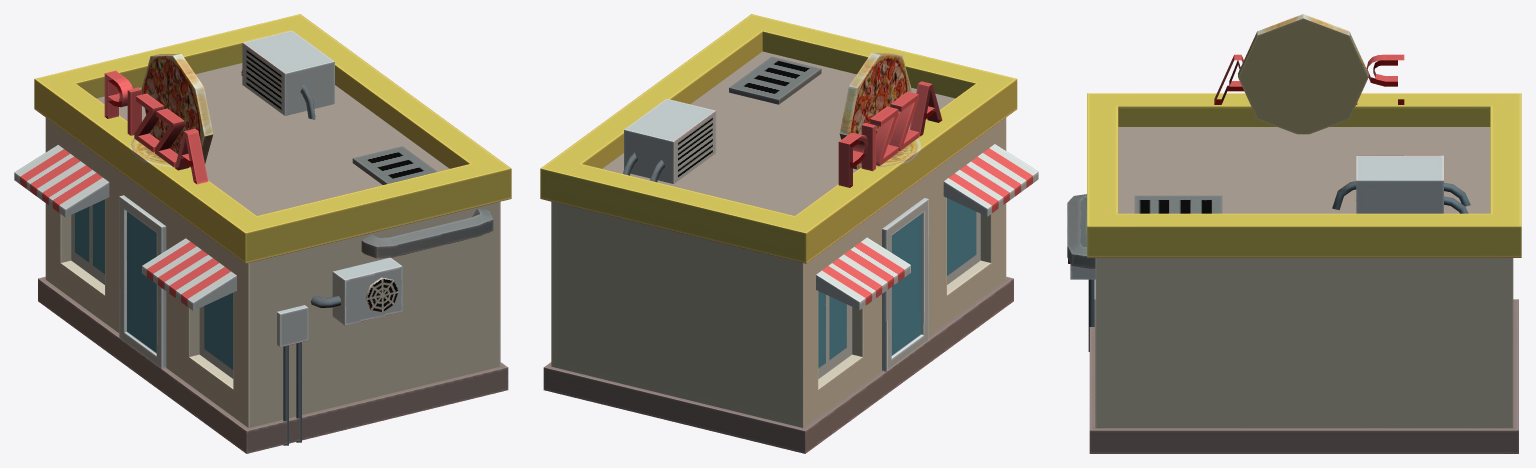
File: Pizza.glb
3 renders of one model, left to right at view 1: azimuth 30°, elevation 25°; view 2: azimuth 150°, elevation 25°; view 3: azimuth 270°, elevation 25°, orthographic. The views are drawn at different scales.
Parts seen in each view (by area): view 1: Object001; view 2: Object001; view 3: Object001.
Boxes of the visible parts, box(x1,y1,x2,y2) form: Object001: box(14, 14, 511, 453); Object001: box(540, 14, 1038, 453); Object001: box(1067, 14, 1521, 453).
Bounding box in the file's own units: 2.12 × 2.11 × 2.67.
Materials: 1 (1 with a texture image).
